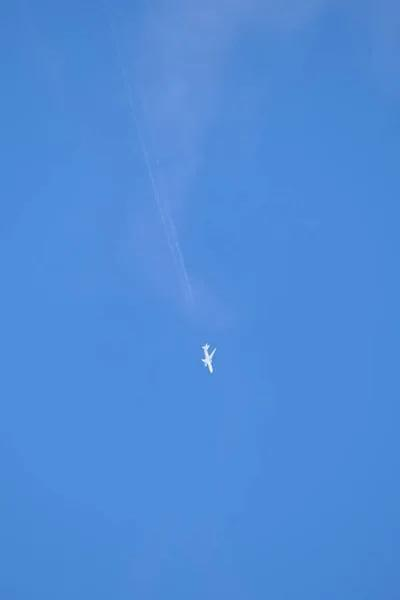Plane: (190, 331, 227, 385)
